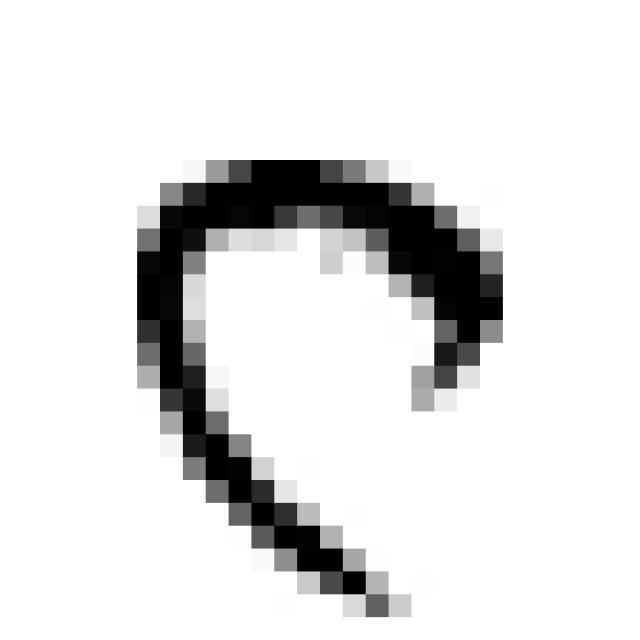2 -two-: (108, 130, 526, 632)
